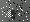person: (13, 8, 19, 20), (7, 8, 12, 20)
